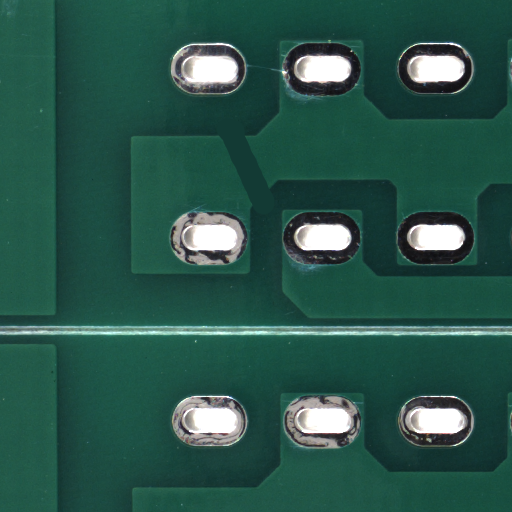Open_circuit: (245, 170, 308, 253)
